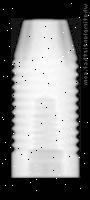Anthogyr: (11, 18, 82, 179)
